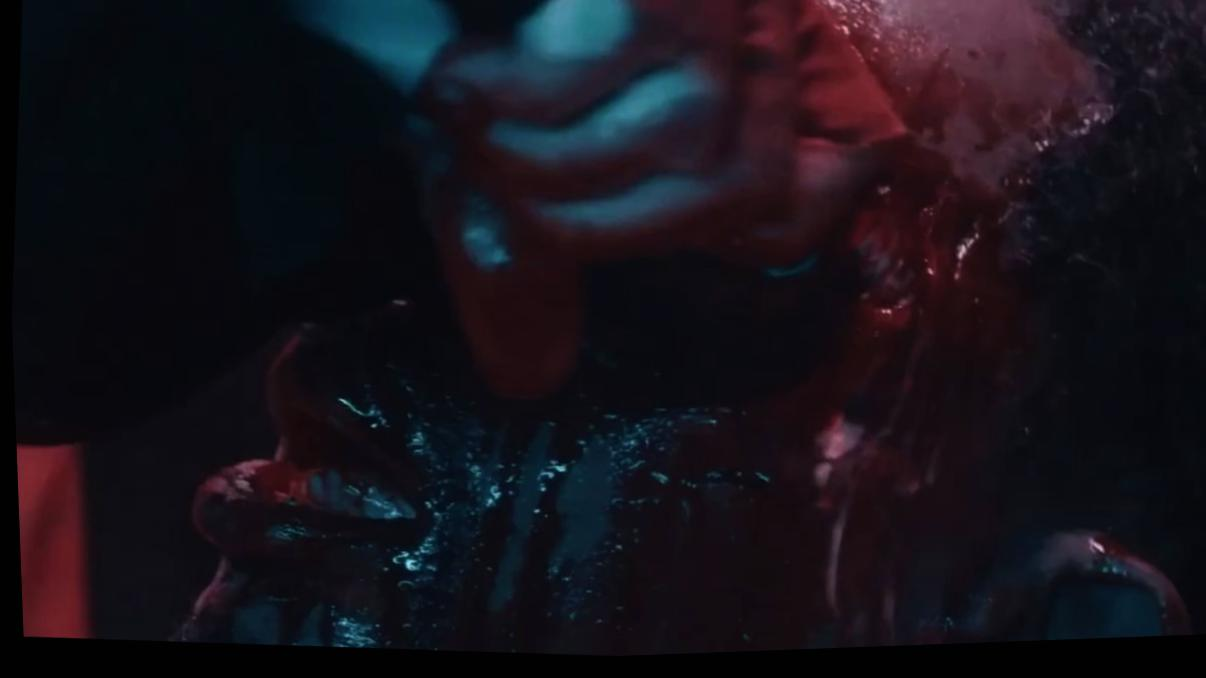Fire: (167, 0, 1185, 661)
